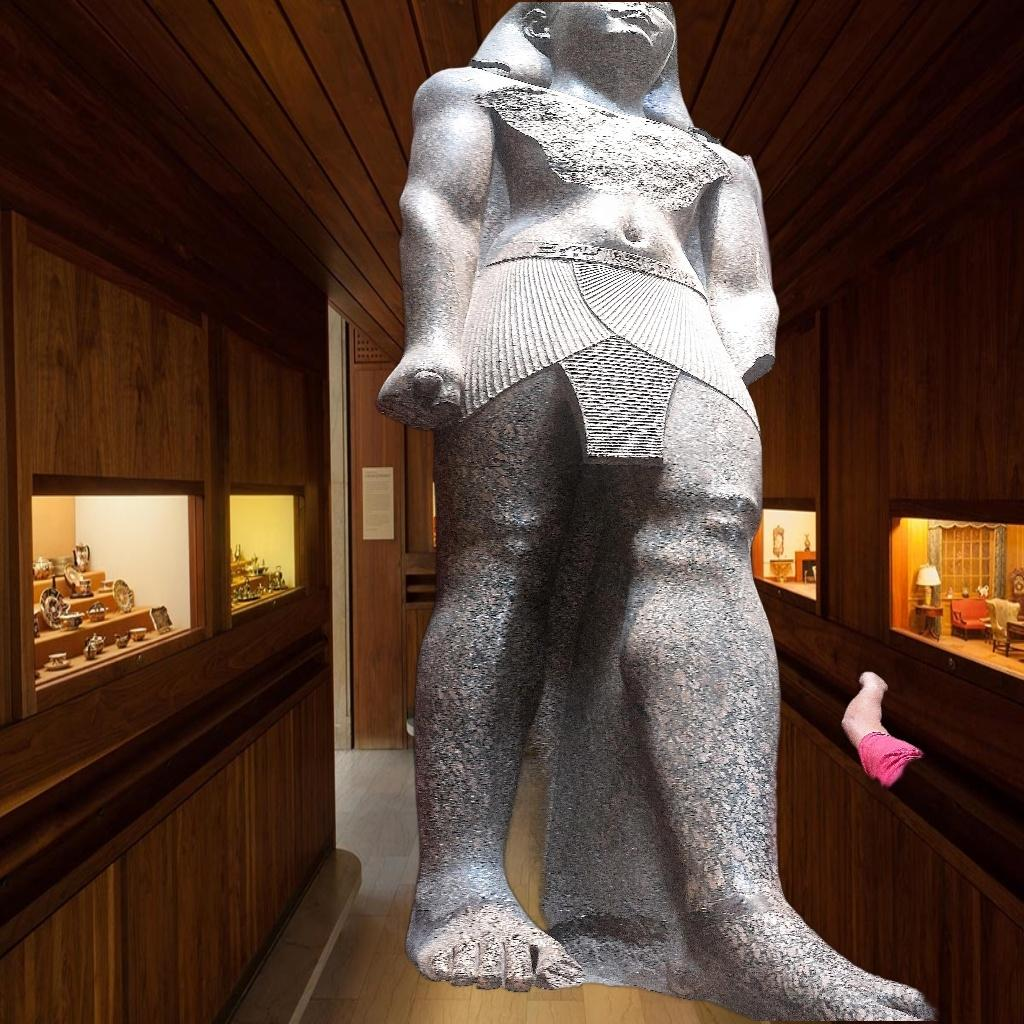Colossal Statue of Amenhotep III: (368, 2, 996, 1022)
